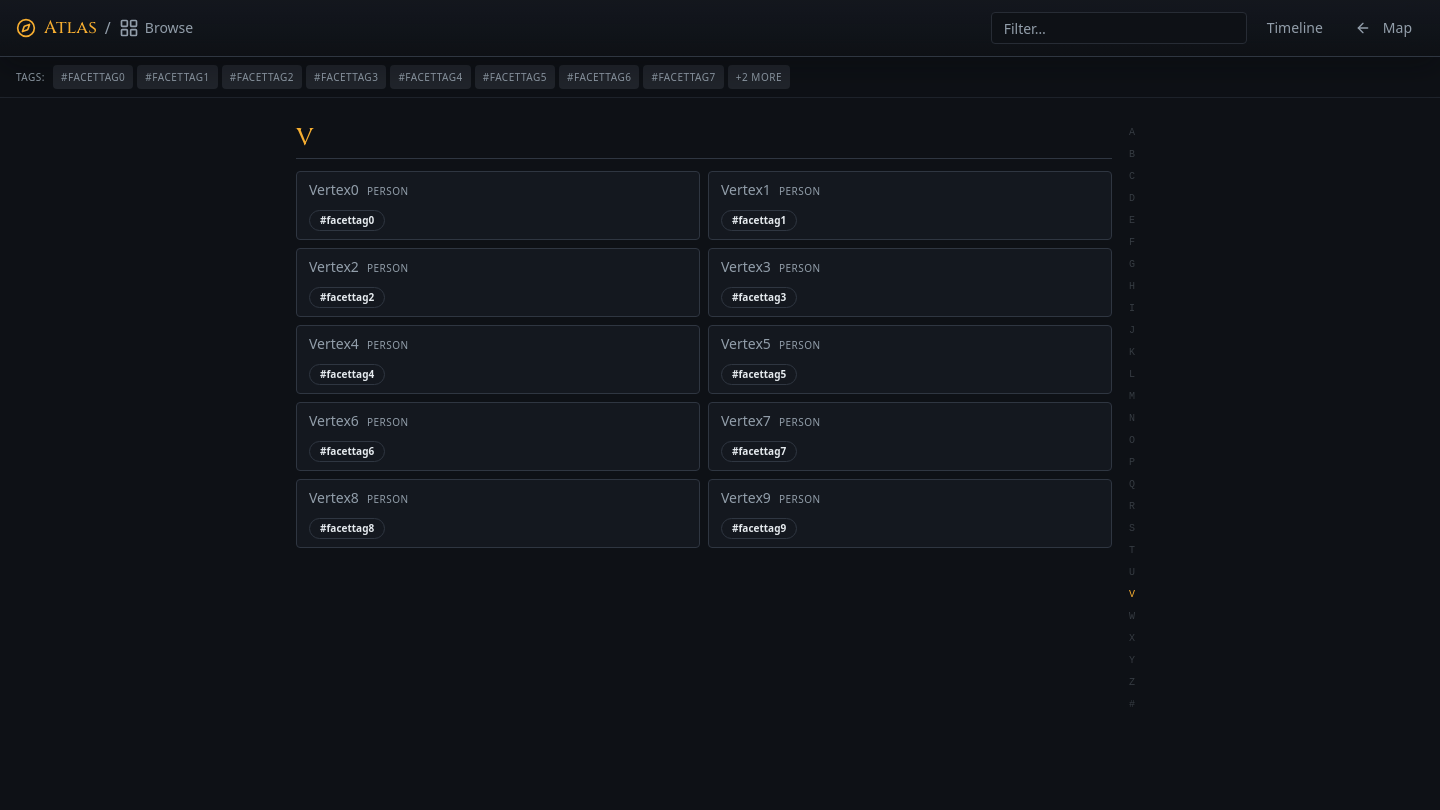
Test: AtlasBrowse — tag facet row (Q24) › shows '+N more' button when tags exceed initial cap and reveals all on click
Expected: the link "Vertex0" is shown, [309,180,359,200]
Click the button "+2 more" at (759, 77), box [728,65,790,89]
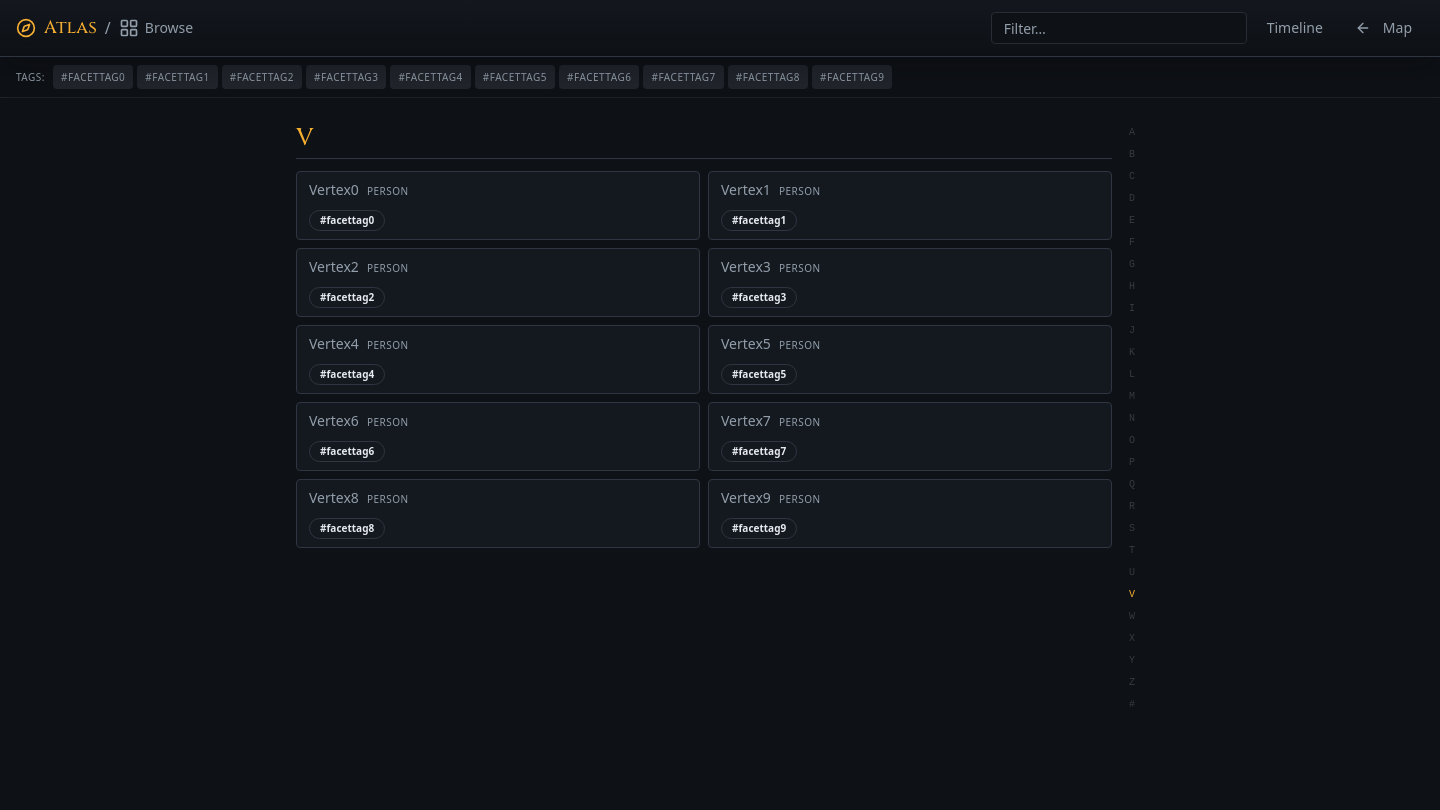
Now the button "+2 more" is gone
Now the number of links "#facettag8" is 1, box [728,65,808,89]
